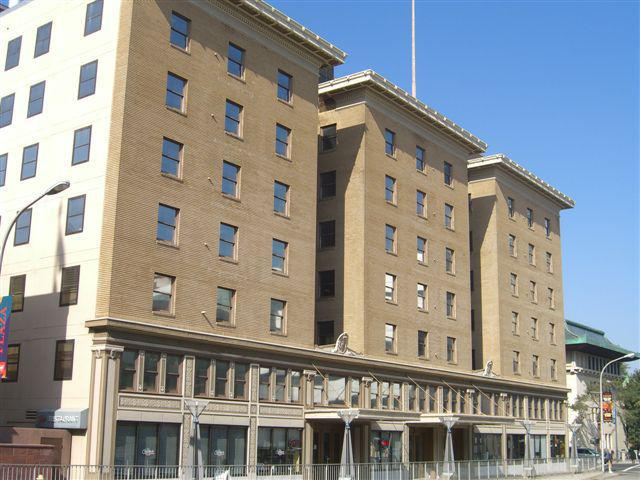affected: (22, 1, 342, 477), (348, 72, 489, 480), (486, 177, 584, 475)
